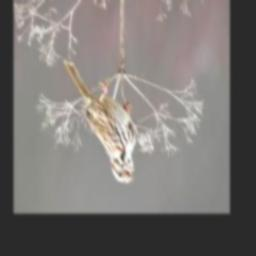Sparrow: (63, 59, 137, 184)
